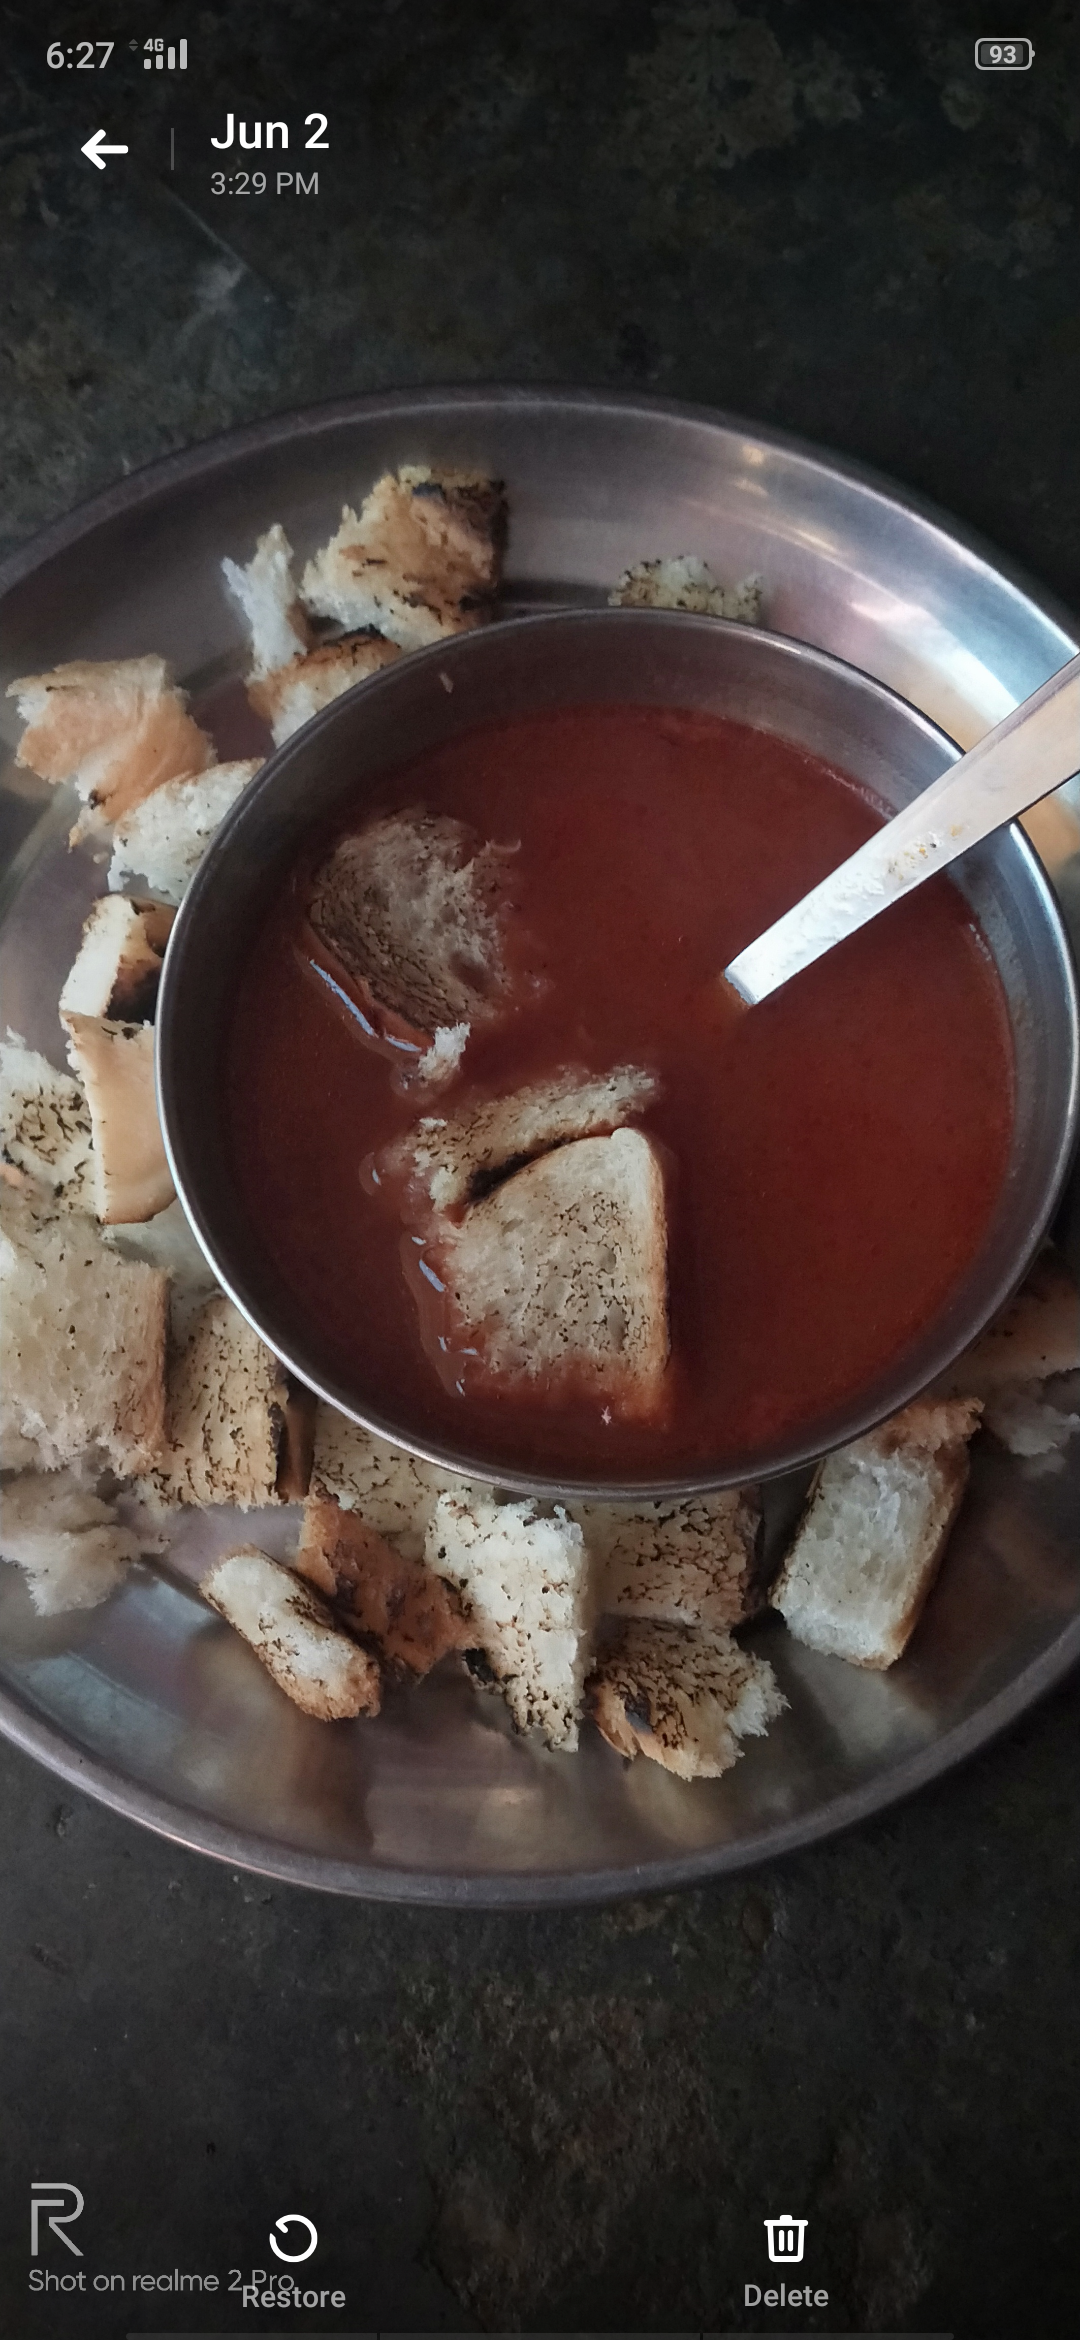food: (0, 451, 1076, 1791)
